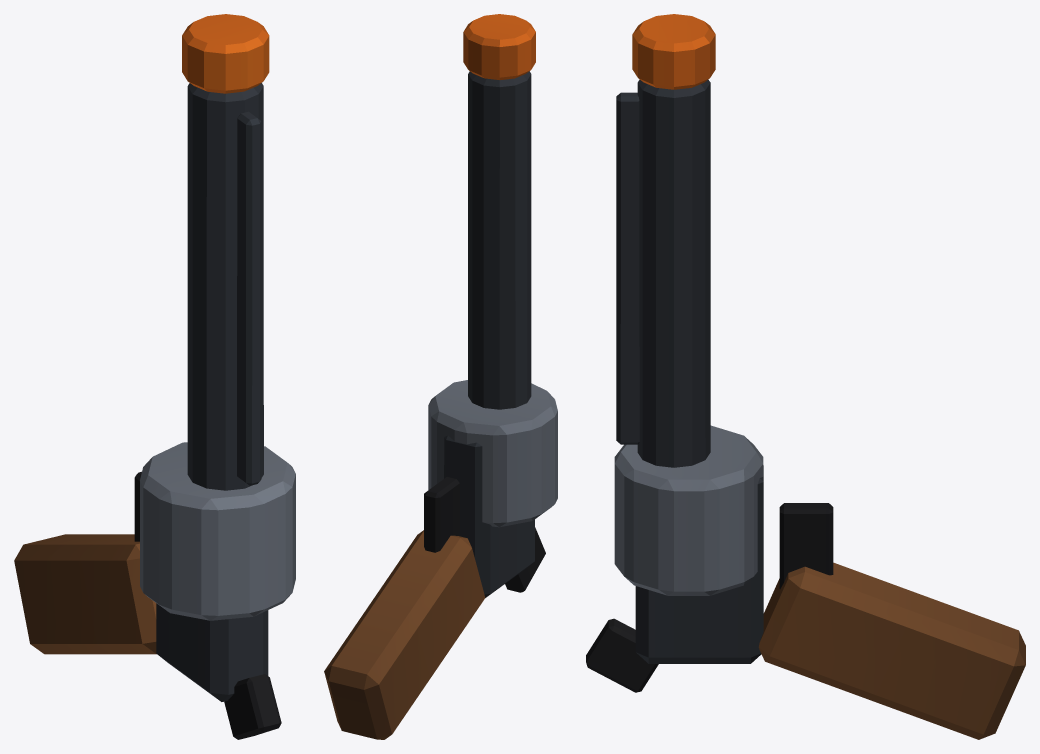
Rendered from hammer44.glb.
3 views of the same model, side by side, from view 1: azimuth 30°, elevation 25°; view 2: azimuth 150°, elevation 25°; view 3: azimuth 270°, elevation 25° (orthographic). The views are drawn at different scales.
Visible parts, largest first — view 1: hammer44; view 2: hammer44; view 3: hammer44.
Part boxes in pixels (left/top/right/bottom): hammer44: left=14, top=14, right=295, bottom=739; hammer44: left=324, top=14, right=557, bottom=739; hammer44: left=586, top=14, right=1025, bottom=739.
Bounding box in the file's own units: 0.0685 × 0.3624 × 0.2059.
